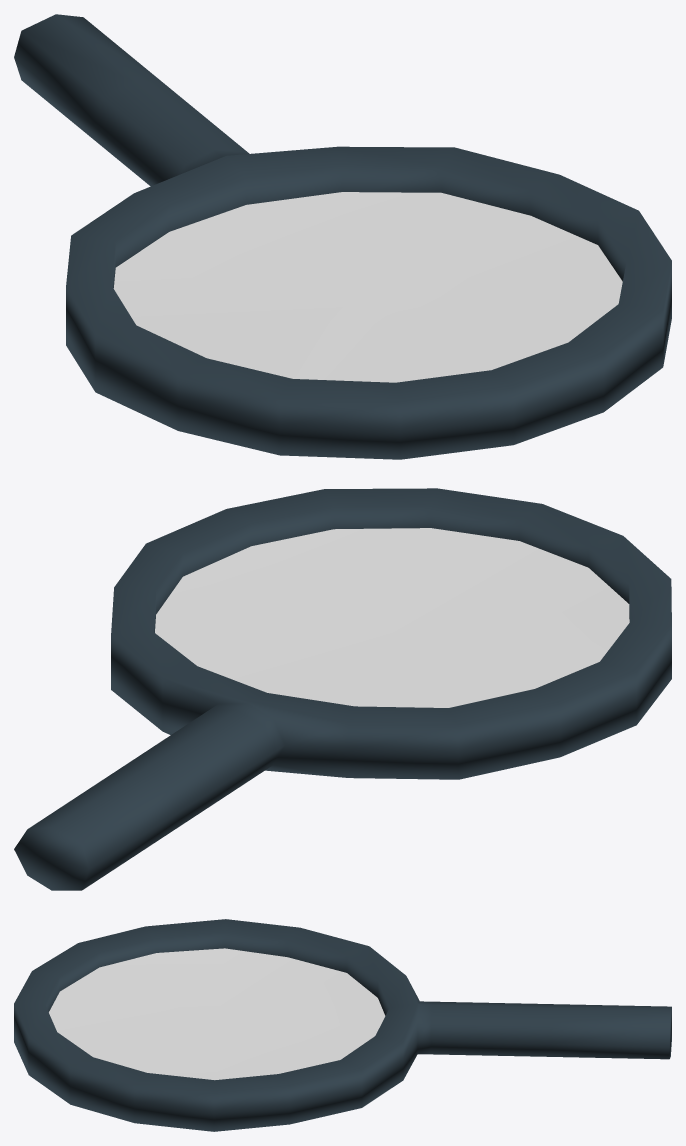
The model's file is Rense.fbx.
3 renders of one model, top to bottom at view 1: azimuth 30°, elevation 25°; view 2: azimuth 150°, elevation 25°; view 3: azimuth 270°, elevation 25°, orthographic. The views are drawn at different scales.
Visible parts, largest first — view 1: Cube, Cube.001; view 2: Cube, Cube.001; view 3: Cube, Cube.001.
Boxes of the visible parts, box(x1,y1,x2,y2) form: Cube: box(14, 14, 671, 459); Cube.001: box(113, 192, 622, 382); Cube: box(14, 488, 671, 890); Cube.001: box(155, 528, 629, 707); Cube: box(14, 919, 671, 1131); Cube.001: box(49, 948, 385, 1080).
Bounding box in the file's own units: 108 × 14.04 × 172.
